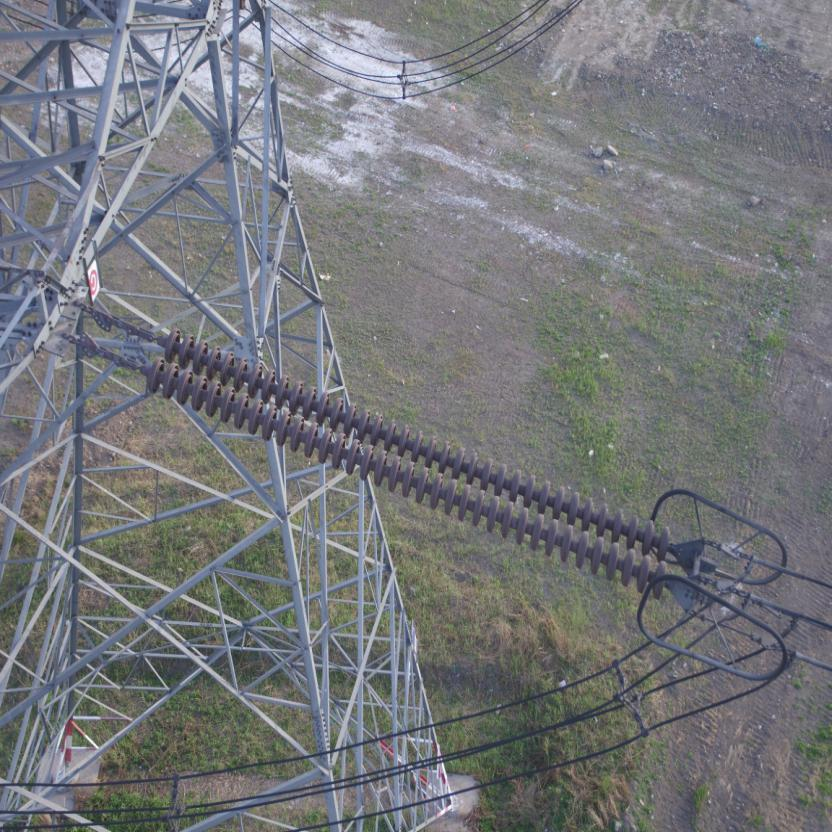insulator: (129, 324, 684, 602)
